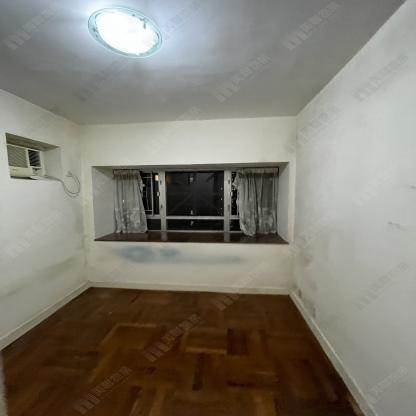AC: (6, 143, 46, 178)
Windowsill: (90, 162, 294, 245)
